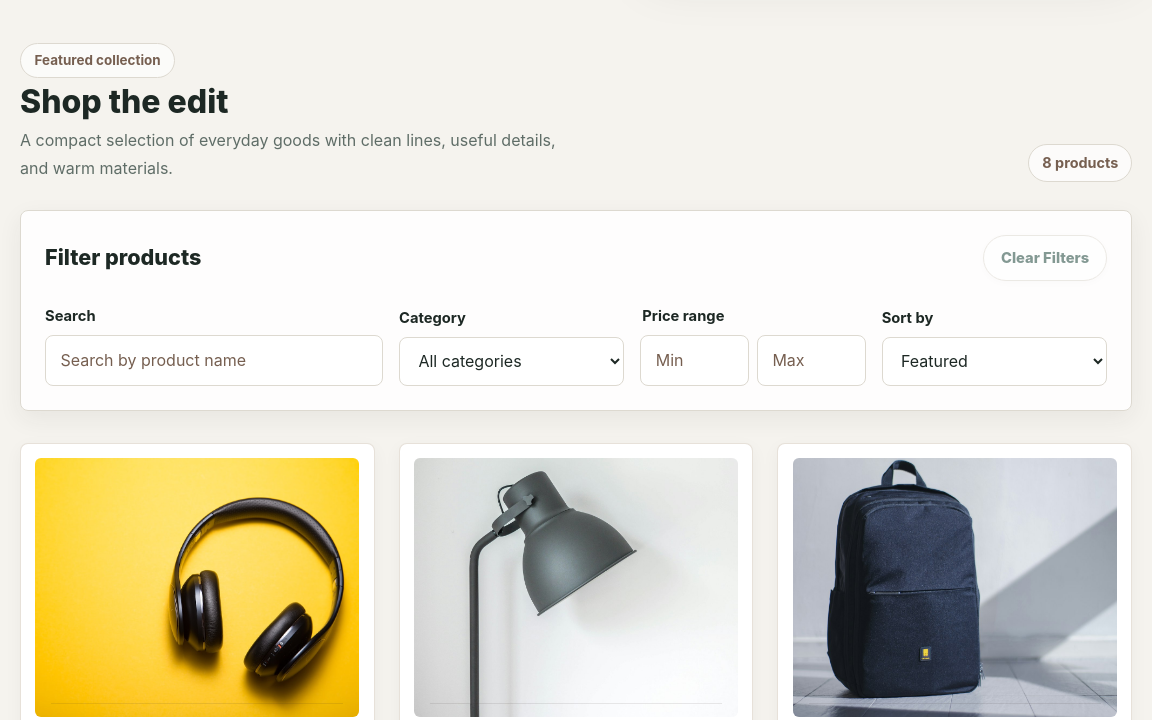
Test: StorePage › shows a useful empty state and resets it
This screenshot has width=1152, height=720.
(page scrolled)
In the search field labelled "Search": (214, 360) 45,335 -> 383,386, type "not a product"
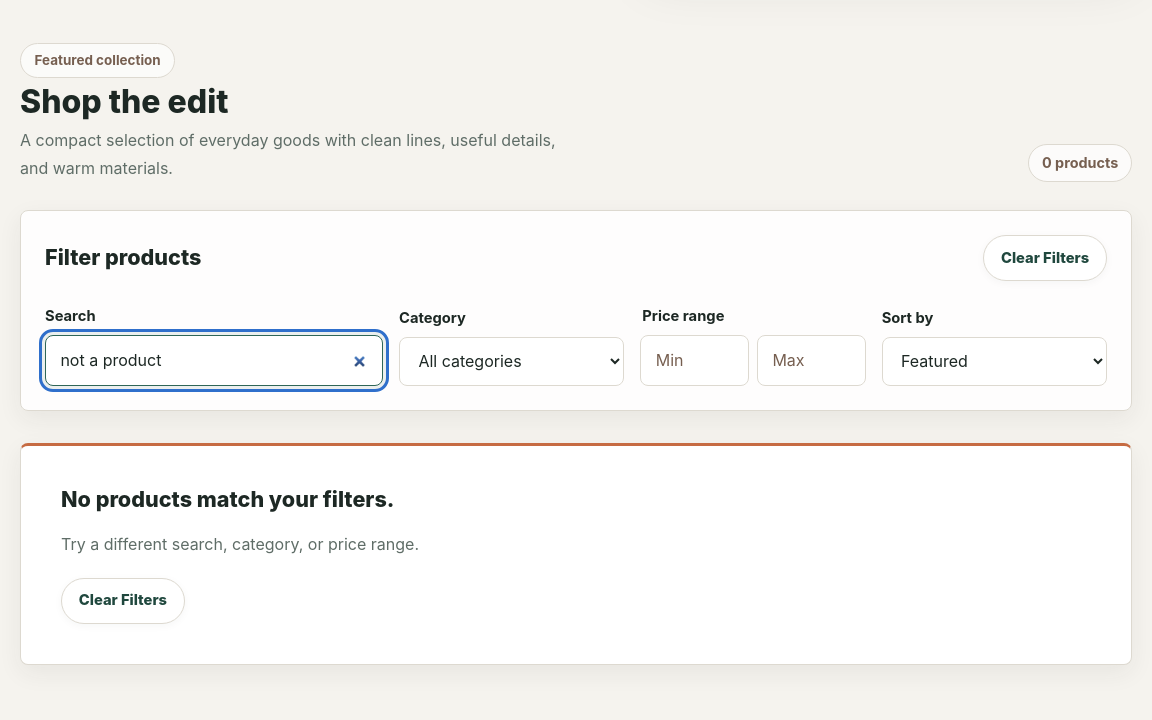
Now the heading "No products match your filters." is shown, box 61,486 -> 394,514
Now the text "0 products" is shown, box 1028,144 -> 1132,182
Click the button "Clear Filters" below "No products match your filters.": (123, 601) 61,578 -> 185,624
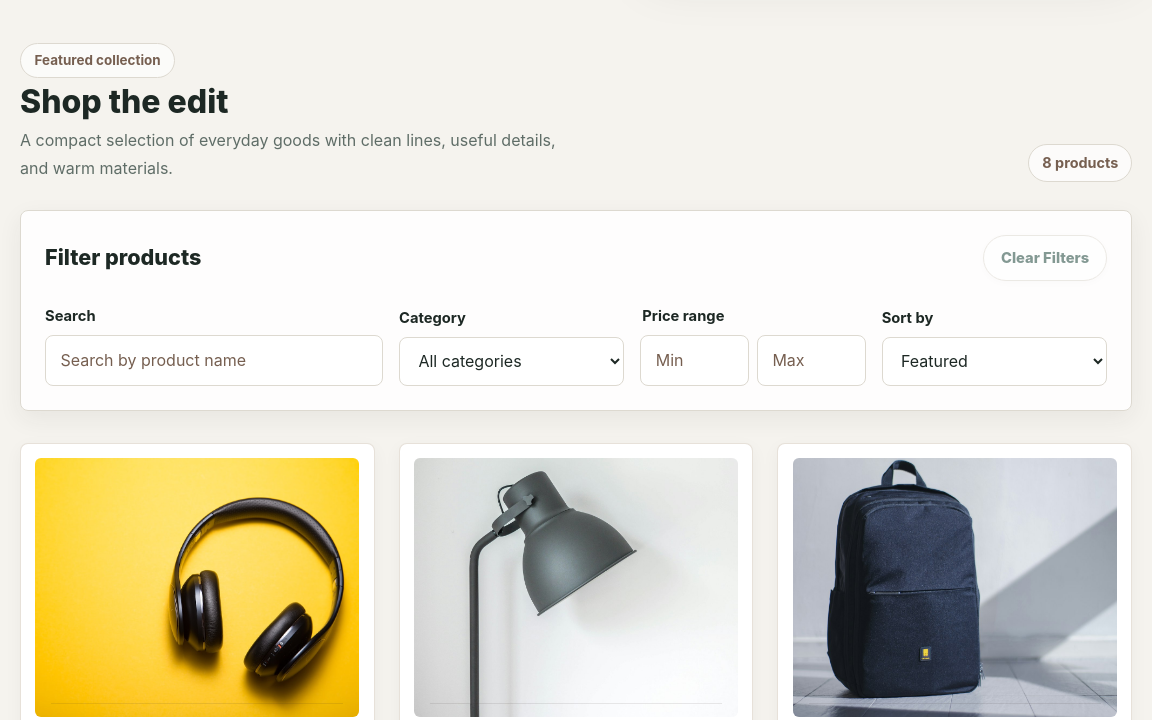
Now the heading "No products match your filters." is gone
